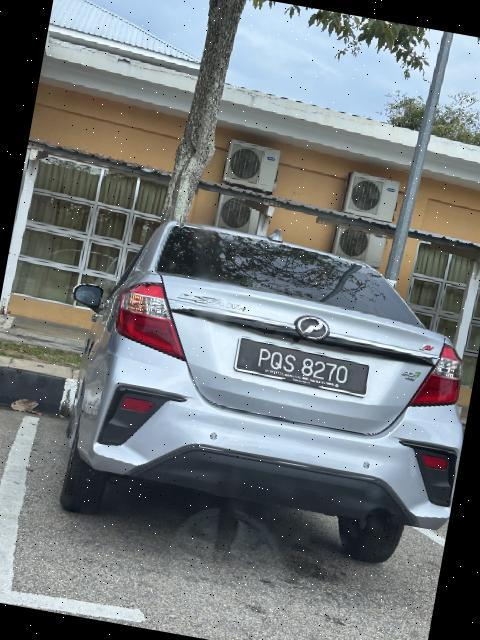License_Plate: (232, 336, 374, 397)
PQS8270: (232, 336, 374, 397)
car: (21, 184, 480, 591)
